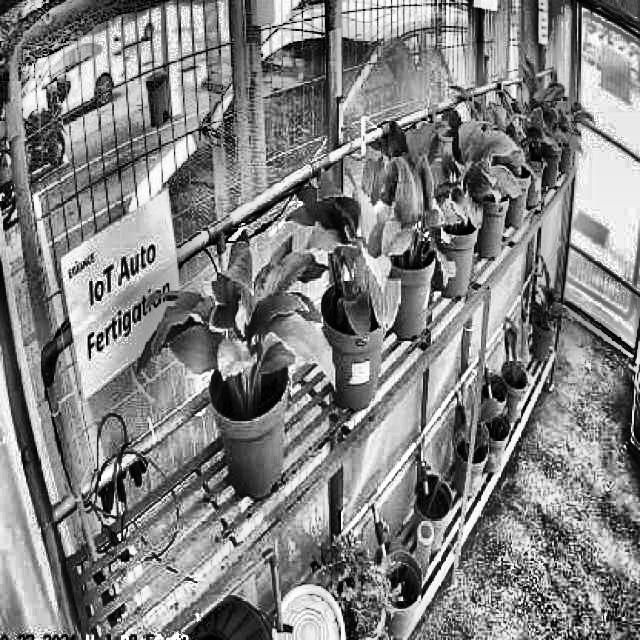plants: (138, 227, 336, 398), (362, 122, 458, 286), (302, 186, 404, 340), (418, 92, 522, 232)
